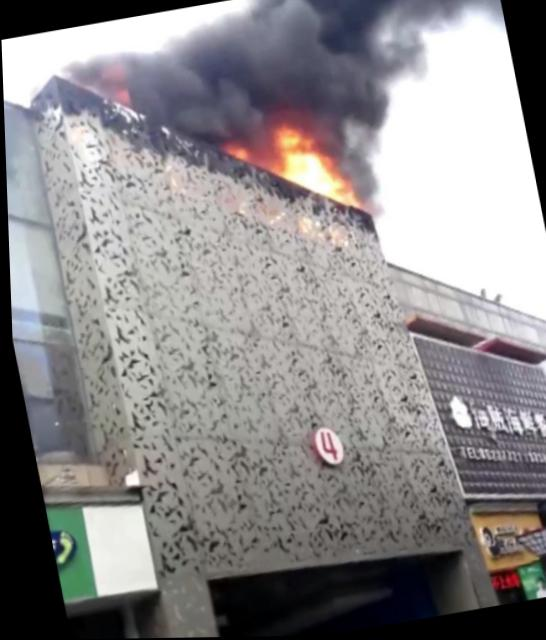fire: (272, 125, 311, 185), (299, 155, 343, 207), (221, 138, 247, 166)
